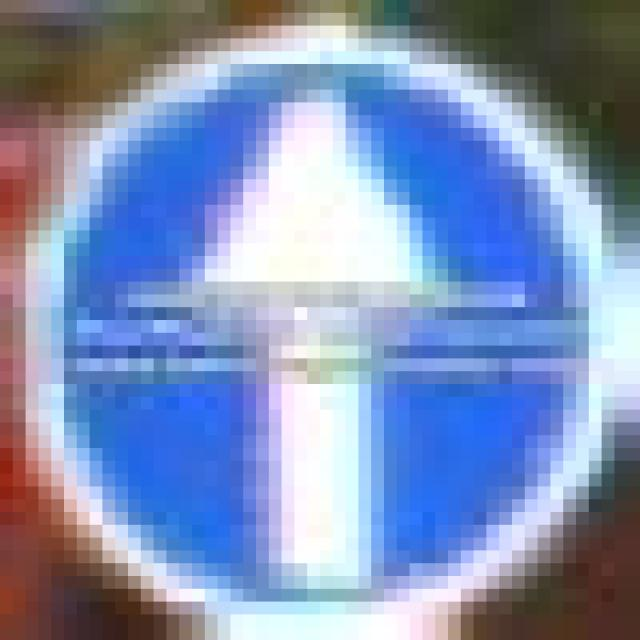COMPULSORY_AHEAD: (13, 37, 640, 640)
